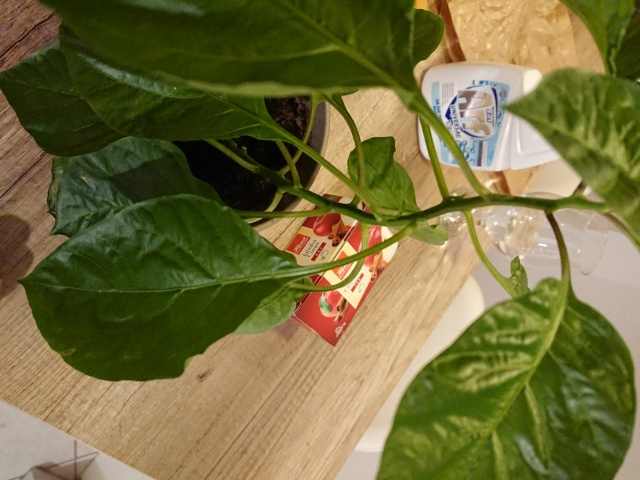Franck Apple Cinnamon Tea 60g: (254, 190, 404, 349)
